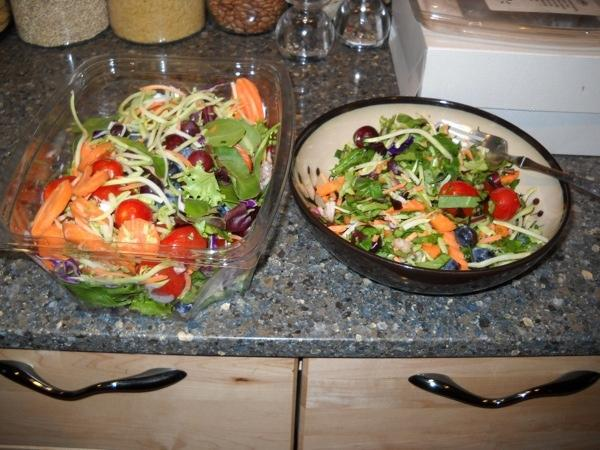carrot: (62, 222, 137, 276), (30, 180, 74, 236), (117, 217, 160, 258), (72, 164, 110, 198), (236, 78, 264, 122), (71, 198, 110, 228), (77, 143, 112, 172), (42, 224, 70, 260), (443, 232, 469, 270), (357, 182, 406, 202), (10, 201, 30, 235), (426, 213, 456, 234), (386, 198, 425, 214), (316, 176, 346, 196), (140, 84, 186, 96), (166, 150, 193, 168), (94, 266, 132, 278), (238, 150, 252, 174), (342, 215, 372, 226), (374, 220, 392, 238), (139, 274, 168, 284), (422, 244, 441, 259), (500, 170, 520, 184), (81, 138, 92, 163), (477, 234, 502, 244), (403, 186, 425, 197), (479, 223, 495, 238), (127, 108, 141, 124), (327, 225, 346, 235), (218, 235, 245, 242), (404, 232, 418, 244), (118, 184, 145, 190), (184, 272, 192, 292), (496, 225, 508, 238), (462, 149, 475, 160), (376, 161, 387, 174), (42, 260, 54, 271), (335, 197, 342, 212), (416, 230, 429, 236), (324, 222, 342, 226), (393, 256, 402, 264), (322, 195, 329, 203), (372, 235, 380, 242), (444, 124, 448, 138), (420, 242, 433, 246), (233, 112, 240, 119), (138, 138, 145, 142), (427, 157, 433, 161), (358, 170, 362, 174)
tomato: (136, 261, 184, 298), (439, 180, 481, 216), (114, 198, 153, 230), (484, 187, 520, 221), (160, 226, 207, 248), (42, 175, 78, 202), (91, 158, 124, 181), (90, 184, 126, 201)
